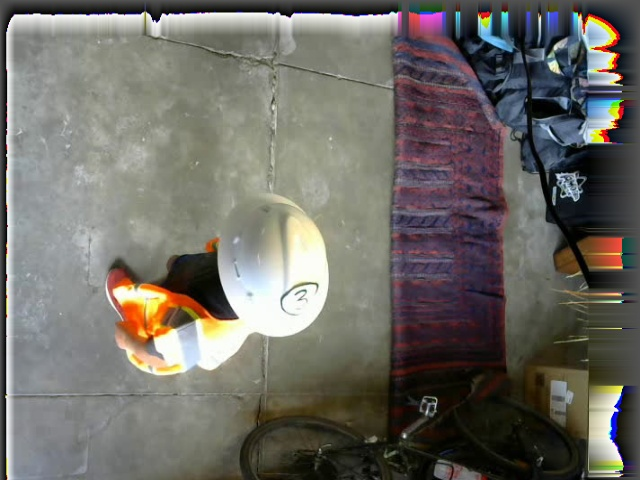three: (281, 282, 318, 313)
